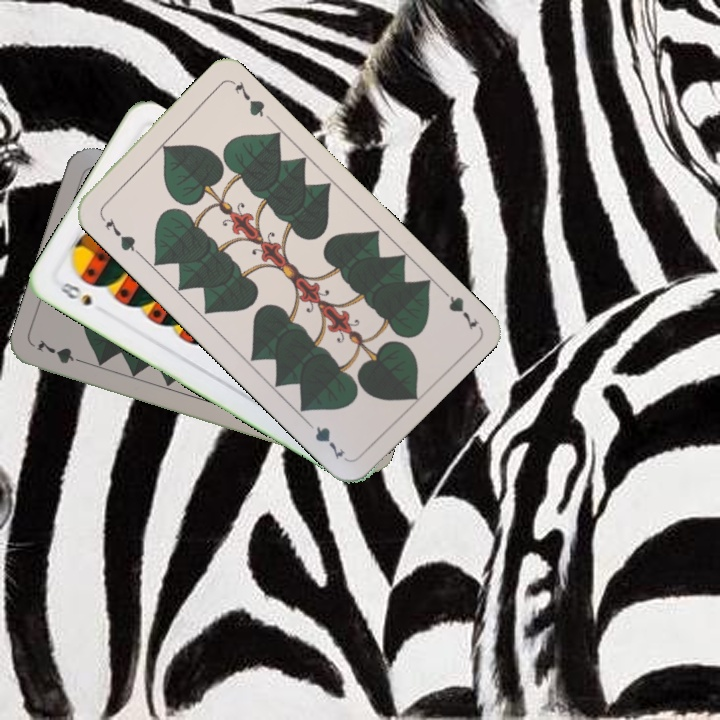G7: (434, 282, 481, 333), (96, 211, 143, 257), (32, 335, 90, 367)
S8: (55, 278, 95, 309)
